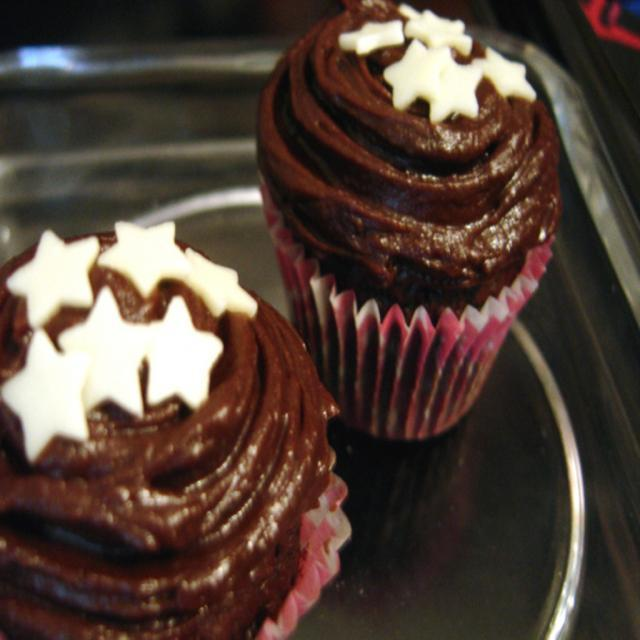Muffin: (0, 215, 351, 639), (278, 9, 580, 459)
